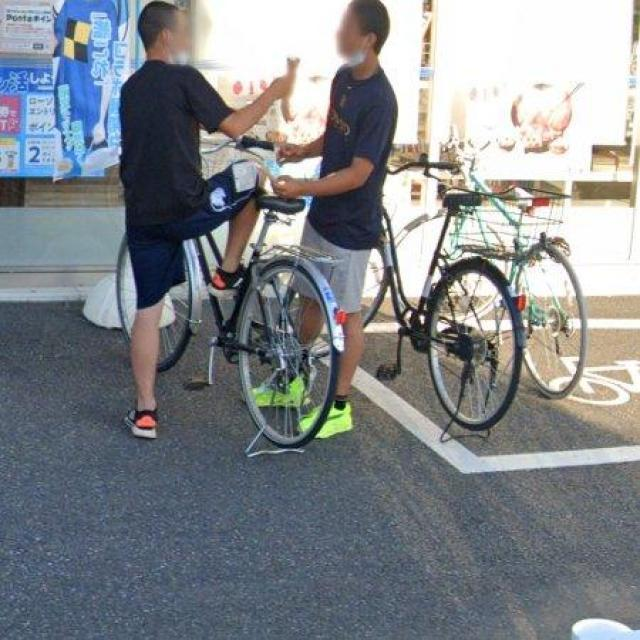bicycle: (84, 124, 361, 520), (301, 133, 538, 457), (401, 132, 609, 428)
